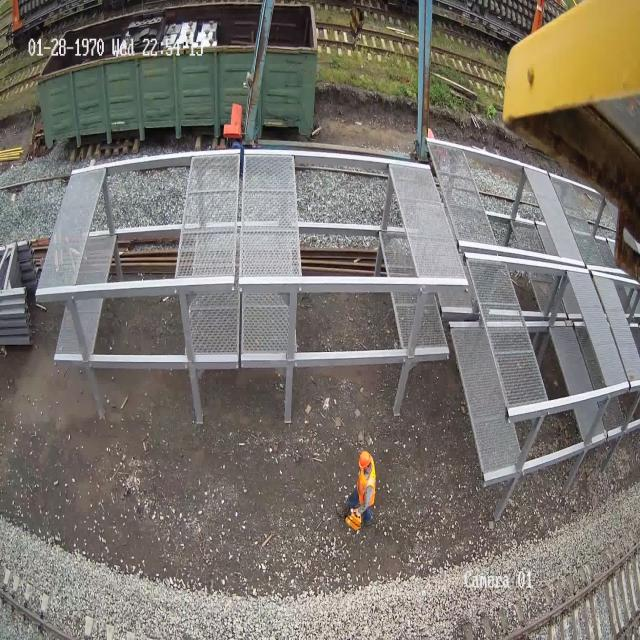Helmet: (358, 450, 371, 469)
Person: (344, 450, 376, 527)
